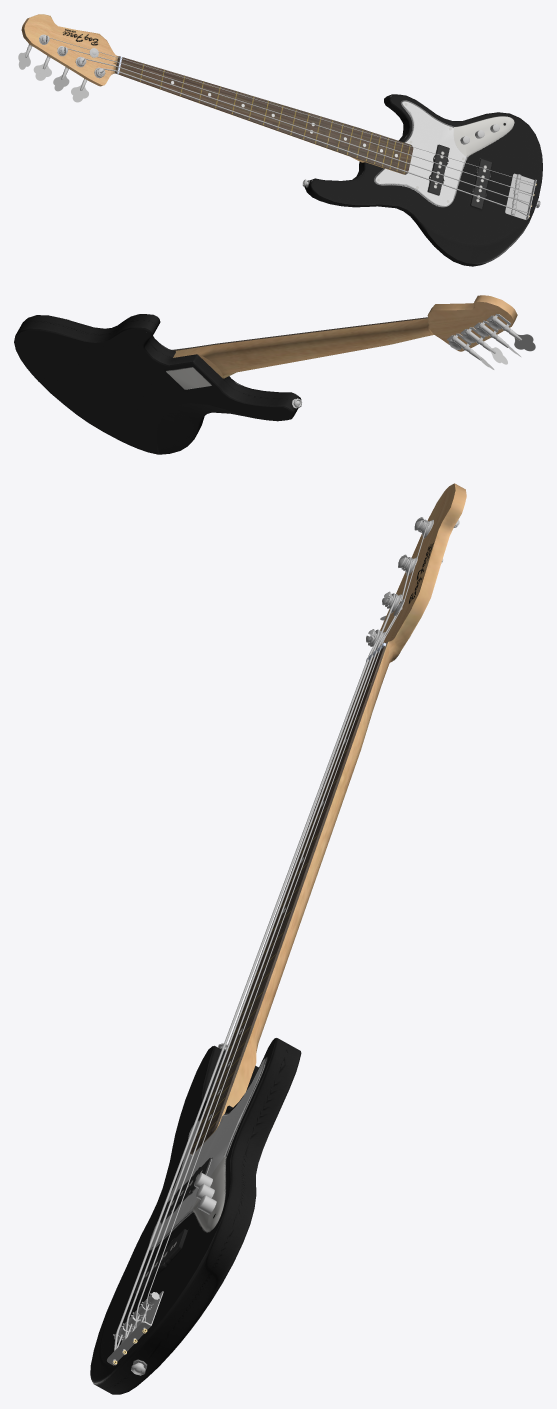
3 renders of one model, top to bottom at view 1: azimuth 30°, elevation 25°; view 2: azimuth 150°, elevation 25°; view 3: azimuth 270°, elevation 25°, orthographic. The views are drawn at different scales.
Parts seen in each view (by area): view 1: Bass_LP, Line015, Box021; view 2: Bass_LP, Box021; view 3: Bass_LP, Line015, Box021.
Boxes of the visible parts, left/top/right/bottom form: Bass_LP: left=21, top=14, right=542, bottom=266; Line015: left=41, top=36, right=533, bottom=215; Box021: left=18, top=34, right=540, bottom=219; Bass_LP: left=14, top=295, right=517, bottom=454; Box021: left=66, top=314, right=535, bottom=408; Bass_LP: left=90, top=483, right=466, bottom=1394; Line015: left=114, top=519, right=428, bottom=1350; Box021: left=107, top=517, right=459, bottom=1375.
Bounding box in the file's own units: 1.84 × 1.03 × 0.6431.
Materials: 3 (3 with a texture image).
